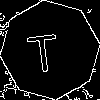T: (25, 25, 60, 74)
